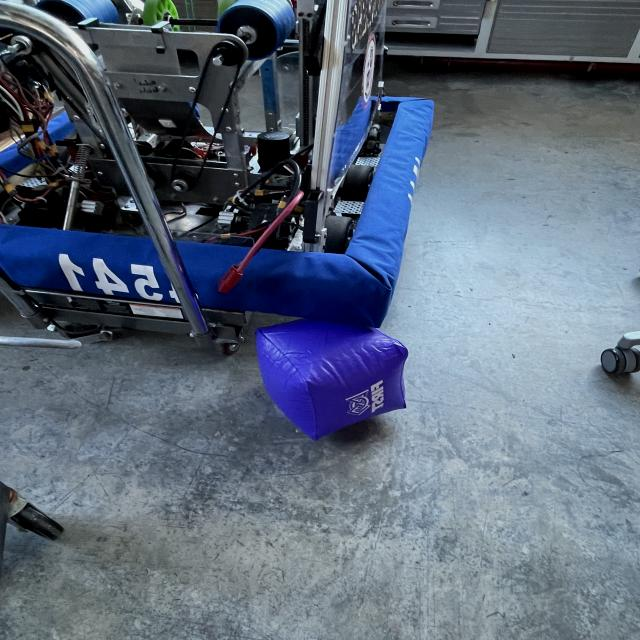frc_cube: (245, 315, 415, 441)
